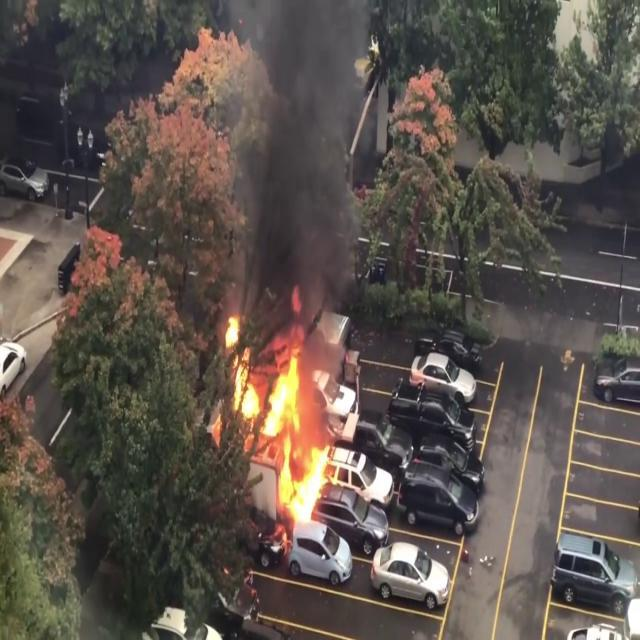Fire: (218, 303, 338, 530)
Smoke: (229, 0, 381, 310)
